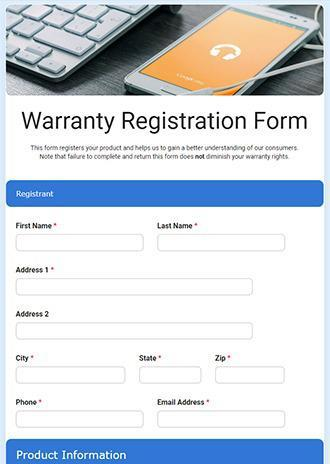input: (17, 323, 254, 341), (17, 279, 253, 296), (17, 234, 144, 253), (159, 411, 286, 429), (159, 235, 286, 252), (18, 411, 144, 428), (18, 368, 125, 384), (140, 368, 201, 385), (216, 368, 285, 383)
label: (157, 396, 211, 409), (16, 221, 58, 232), (157, 221, 199, 232), (15, 266, 57, 276), (16, 309, 53, 319), (15, 397, 45, 408), (139, 353, 165, 365), (213, 353, 237, 366), (16, 354, 38, 363)
